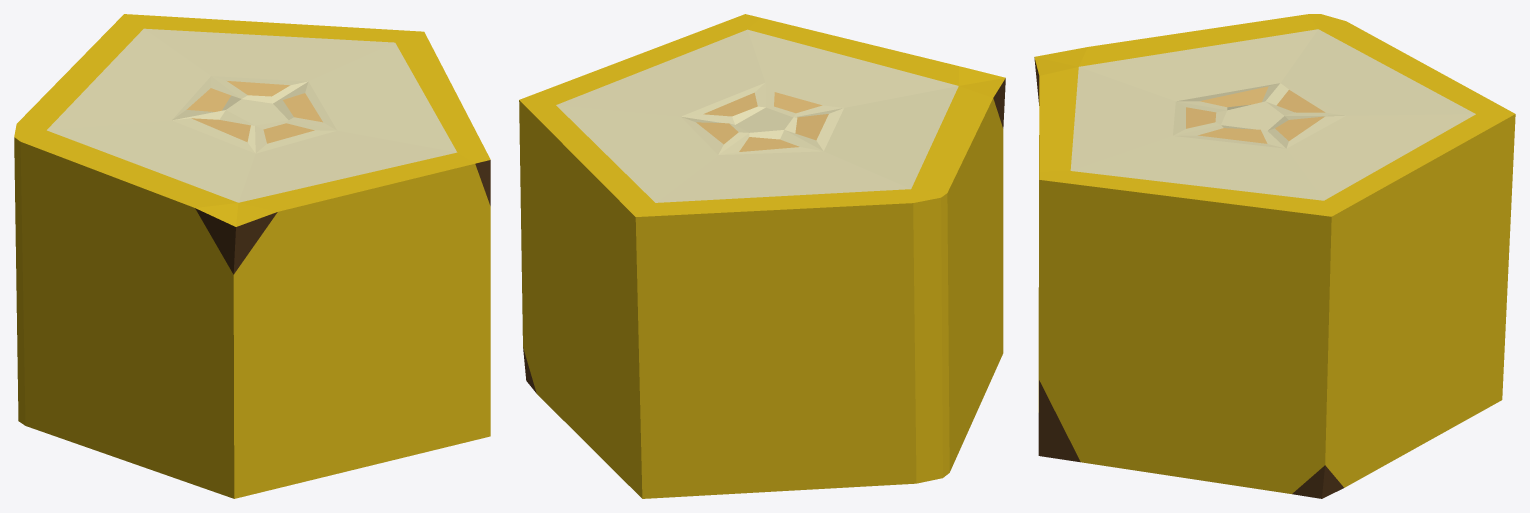
Rendered from banana chunk.fbx.
The picture shows the model from 3 angles, left to right: view 1: azimuth 30°, elevation 25°; view 2: azimuth 150°, elevation 25°; view 3: azimuth 270°, elevation 25°; orthographic projection.
Visible parts, largest first — view 1: Cylinder; view 2: Cylinder; view 3: Cylinder.
Boxes of the visible parts, x1,y1,x2,y2 form: Cylinder: (14,14,490,498); Cylinder: (519,14,1005,498); Cylinder: (1034,14,1515,498).
Bounding box in the file's own units: 190 × 126 × 190.
